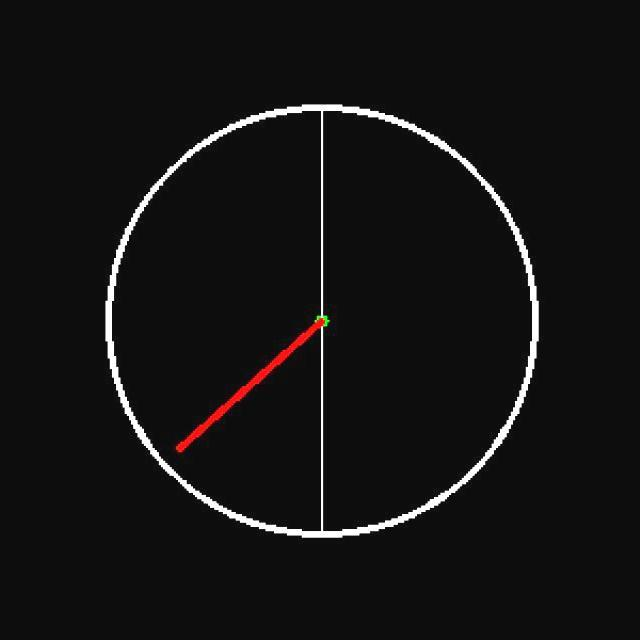Needle_Tip: (158, 419, 208, 476)
Needle_base: (292, 300, 367, 340)
